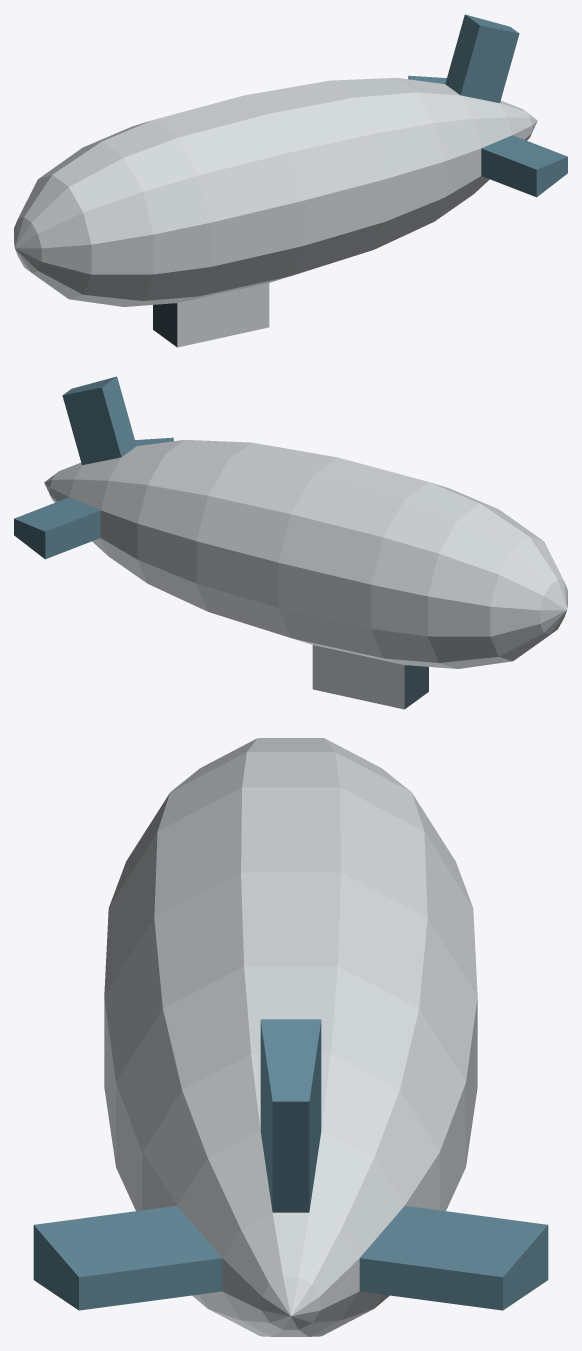
The model's file is NEW_RECOVERY_022_LOD2.glb.
3 views of the same model, one above another, from view 1: azimuth 30°, elevation 25°; view 2: azimuth 150°, elevation 25°; view 3: azimuth 270°, elevation 25° (orthographic). The views are drawn at different scales.
Parts seen in each view (by area): view 1: Airship; view 2: Airship; view 3: Airship.
Boxes of the visible parts, left/top/right/bottom form: Airship: left=14, top=14, right=567, bottom=347; Airship: left=14, top=376, right=567, bottom=709; Airship: left=33, top=738, right=548, bottom=1336.
Size of the model in its own units: 8 by 3.59 by 3.41.
